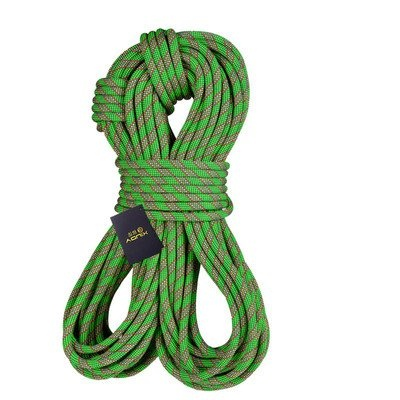9/可回收垃圾/绳子: (60, 28, 270, 391)
